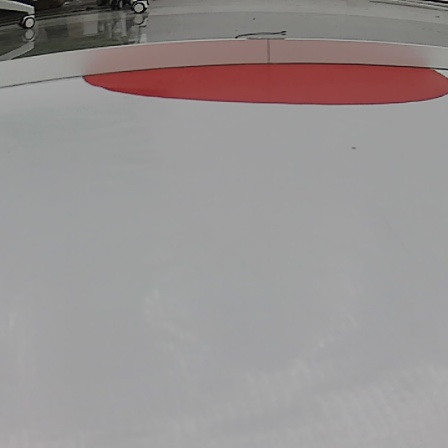red_base: (83, 53, 448, 105)
